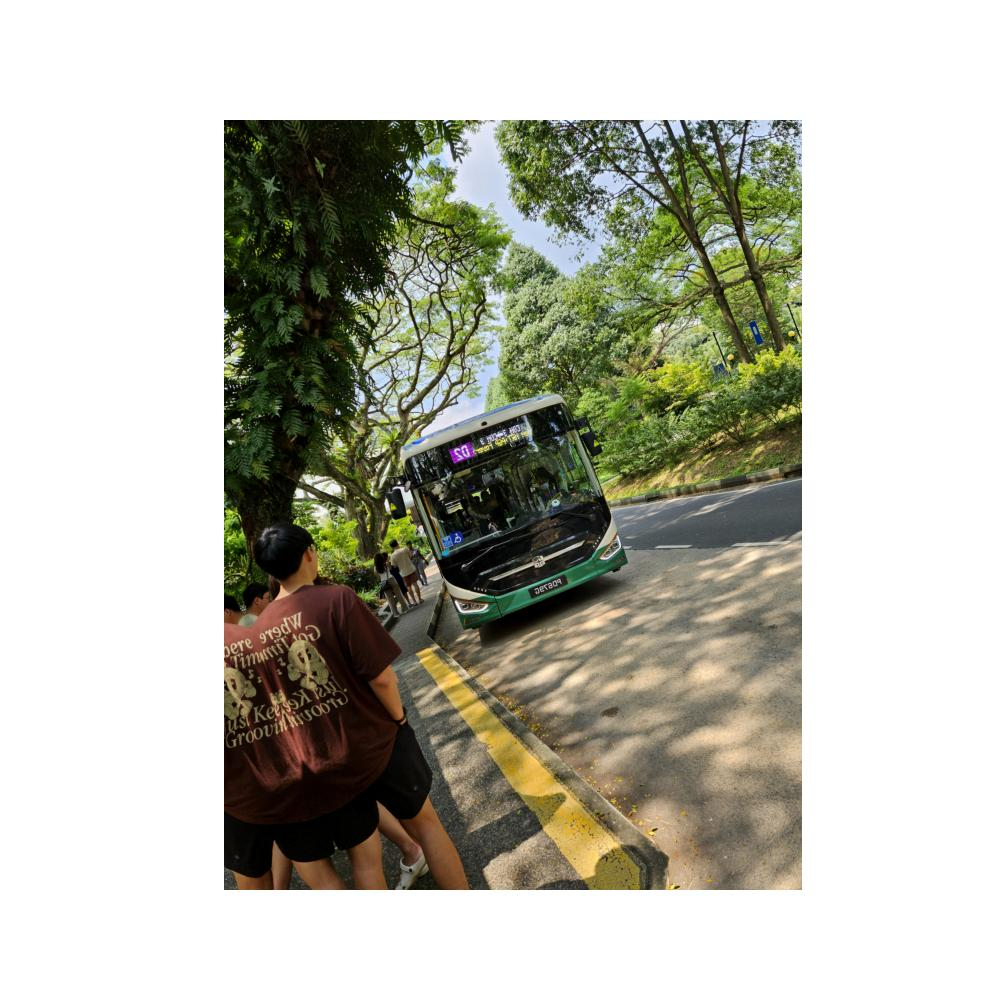bus: (390, 395, 635, 638)
